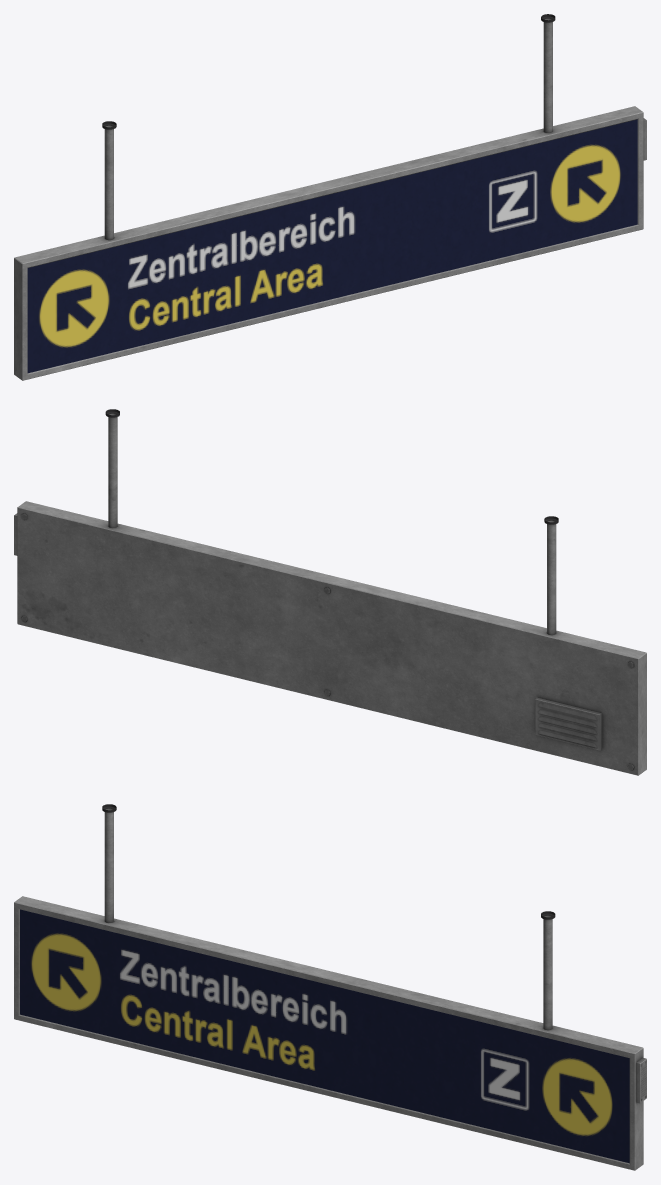
Rendered from infosigns_0001.fbx.
3 views of the same model, one above another, from view 1: azimuth 30°, elevation 25°; view 2: azimuth 150°, elevation 25°; view 3: azimuth 330°, elevation 25° (orthographic).
Parts seen in each view (by area): view 1: infosignes_0001_central_area_straight_left; view 2: infosignes_0001_central_area_straight_left; view 3: infosignes_0001_central_area_straight_left.
Part boxes in pixels (x1,y1,x2,y2): infosignes_0001_central_area_straight_left: (14,14,646,380); infosignes_0001_central_area_straight_left: (14,409,646,775); infosignes_0001_central_area_straight_left: (14,804,646,1170).
Size of the model in its own units: 2.82 by 0.9982 by 0.0825.
